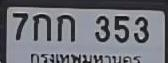3: (94, 15, 109, 41), (133, 16, 148, 42)
5: (113, 15, 128, 42)
7: (12, 12, 27, 39)
A01: (32, 13, 50, 40), (56, 14, 74, 41)
